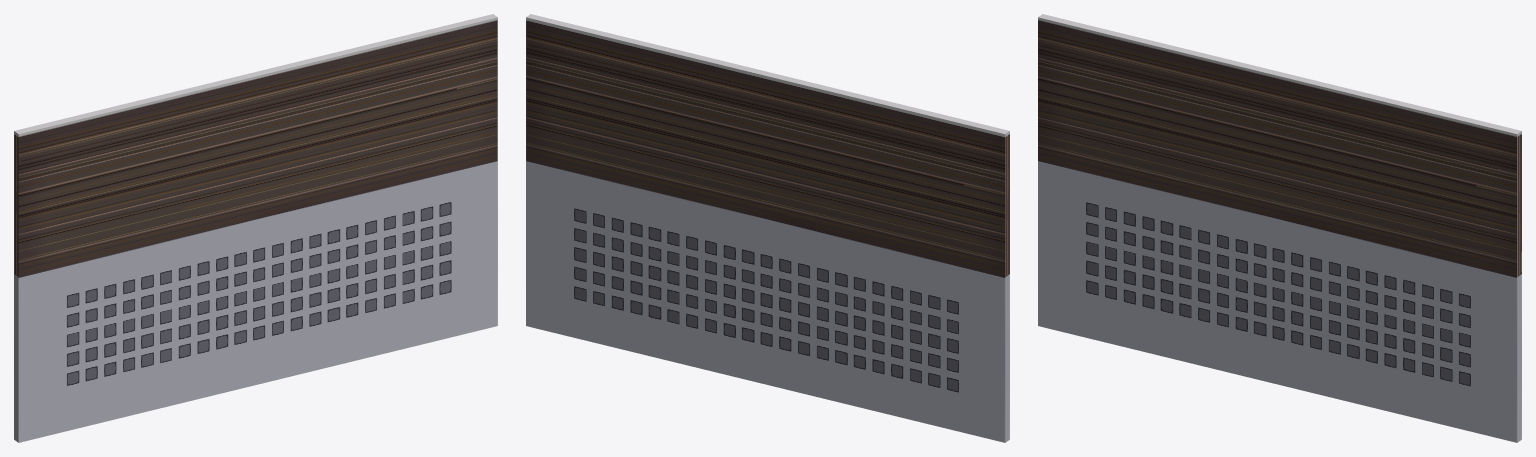
Rendered from DeskWall_LP.fbx.
The picture shows the model from 3 angles, left to right: view 1: azimuth 30°, elevation 25°; view 2: azimuth 150°, elevation 25°; view 3: azimuth 330°, elevation 25°; orthographic projection.
Visible parts, largest first — view 1: DeskWall; view 2: DeskWall; view 3: DeskWall.
Boxes of the visible parts, <box> form: DeskWall: <box>14,14,497,442</box>; DeskWall: <box>526,14,1009,442</box>; DeskWall: <box>1038,14,1521,442</box>.
Bounding box in the file's own units: 1202 × 20 × 740.
Materials: 1 (1 with a texture image).
